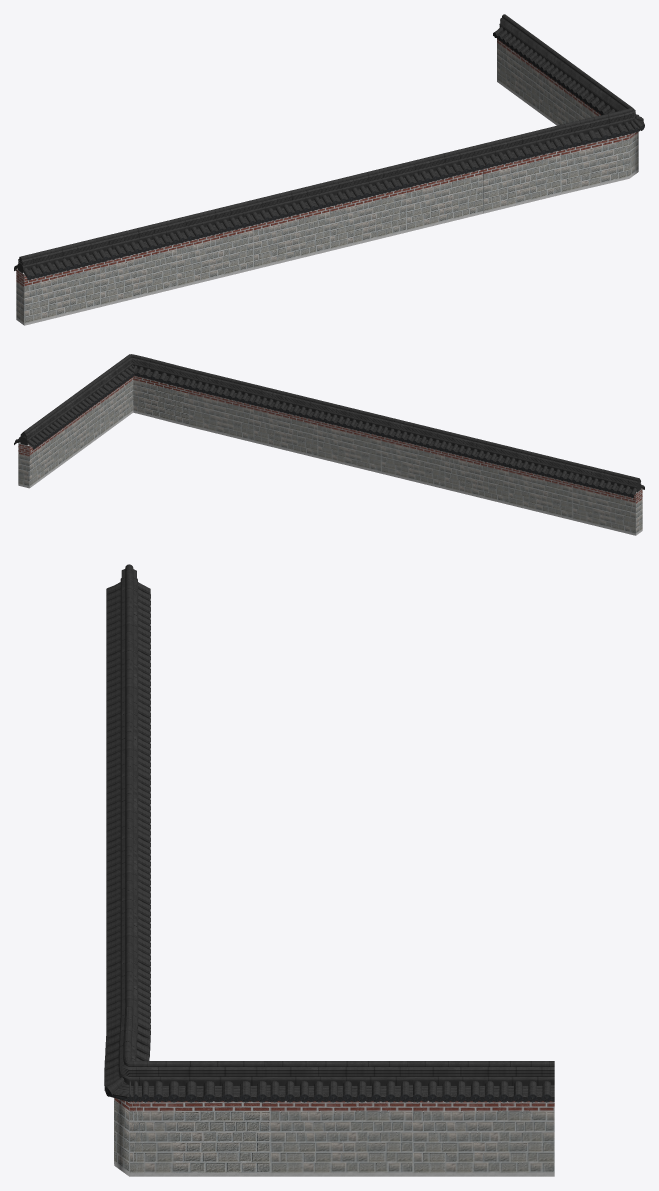
The model's file is SM_DG_HG_StoneWallH_Splines_2.fbx.
The picture shows the model from 3 angles, top to bottom: view 1: azimuth 30°, elevation 25°; view 2: azimuth 150°, elevation 25°; view 3: azimuth 270°, elevation 25°; orthographic projection. The views are drawn at different scales.
Parts seen in each view (by area): view 1: SM_DG_HG_StoneWallH_Splines_2; view 2: SM_DG_HG_StoneWallH_Splines_2; view 3: SM_DG_HG_StoneWallH_Splines_2.
Part boxes in pixels (x1,y1,x2,y2): SM_DG_HG_StoneWallH_Splines_2: [14, 14, 644, 325]; SM_DG_HG_StoneWallH_Splines_2: [14, 354, 644, 535]; SM_DG_HG_StoneWallH_Splines_2: [104, 564, 554, 1176].
Bounding box in the file's own units: 1762 × 662 × 178.
